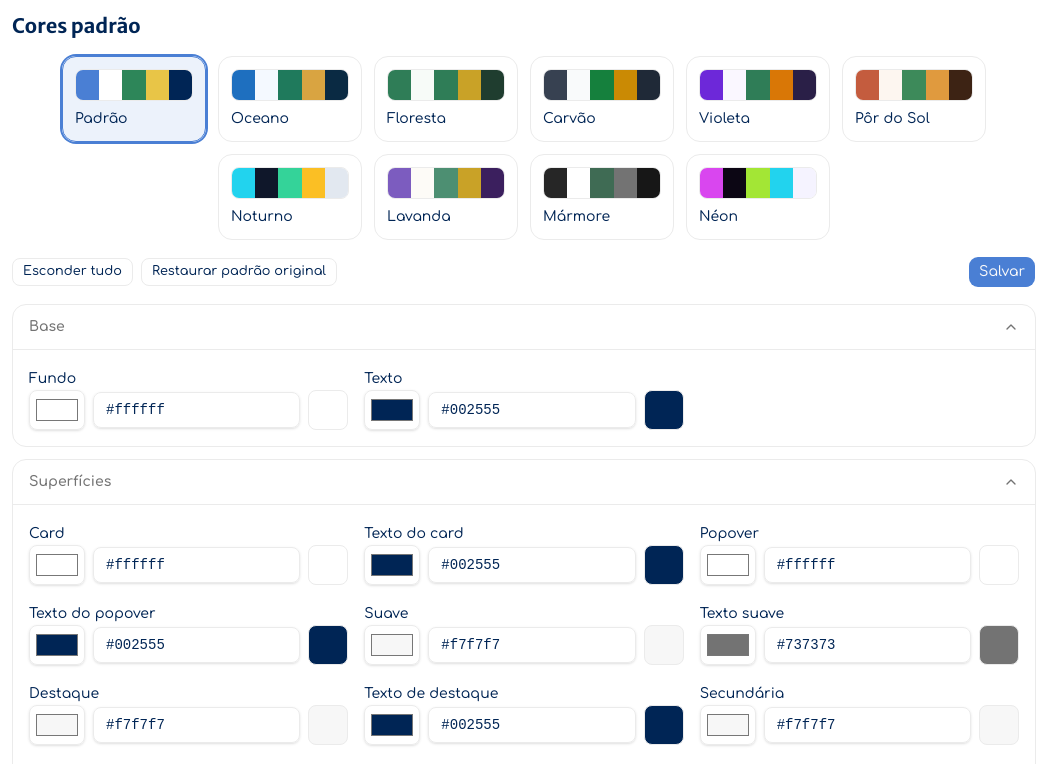
Test: DefaultColorsSection › renders token groups as accordions with expand and collapse all
Click the button "Superfícies".
click(70, 482)  # box [13,460,1035,504]
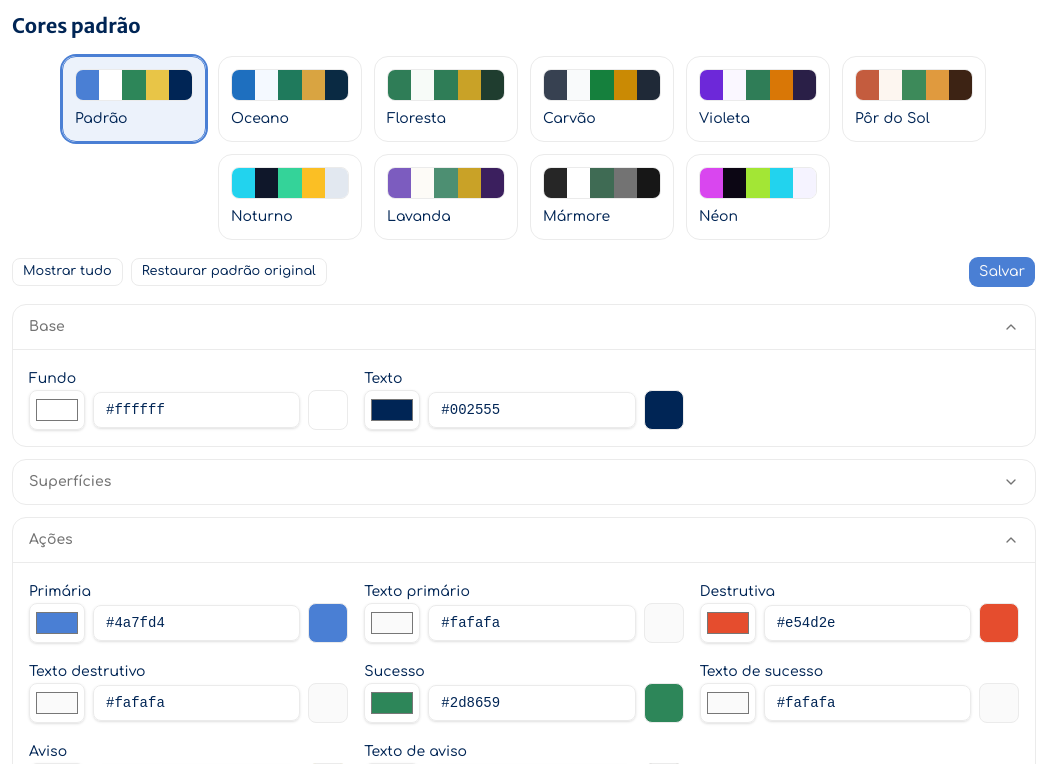
Expected: the button "Superfícies" is collapsed, [13,460,1035,504]
Click the button "Mostrar tudo".
click(67, 272)  # box [12,258,123,286]
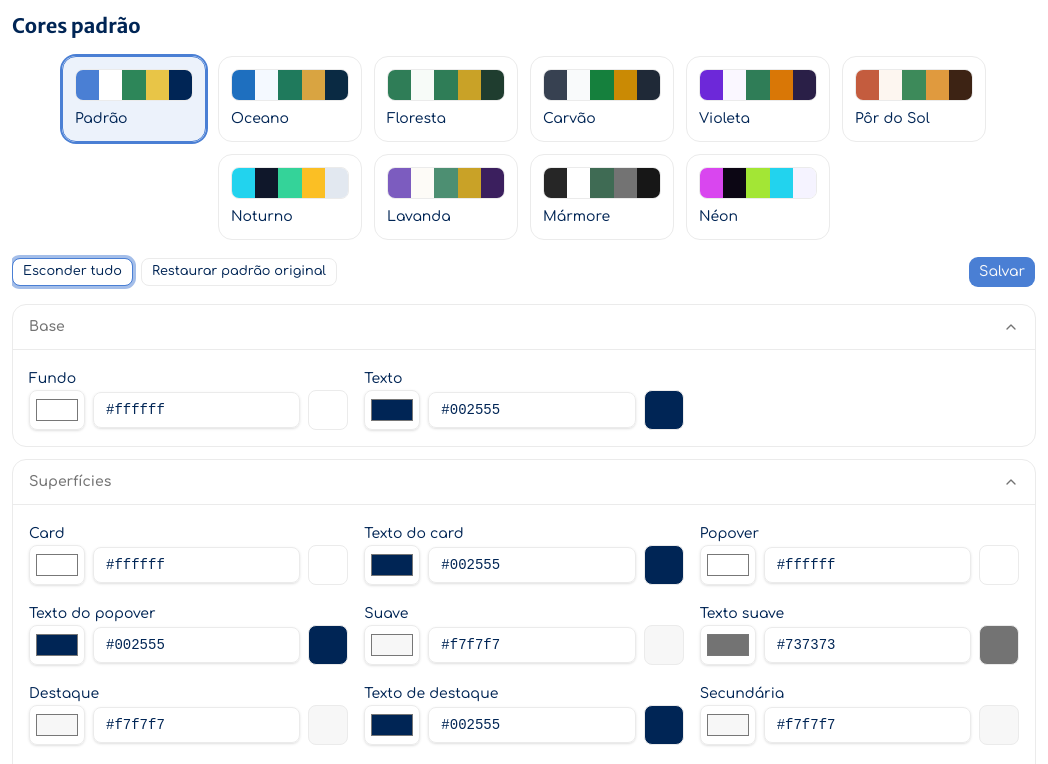
Expected: the button "Superfícies" is expanded, [13,460,1035,504]
Click the button "Esconder tudo".
click(72, 272)  # box [12,258,133,286]
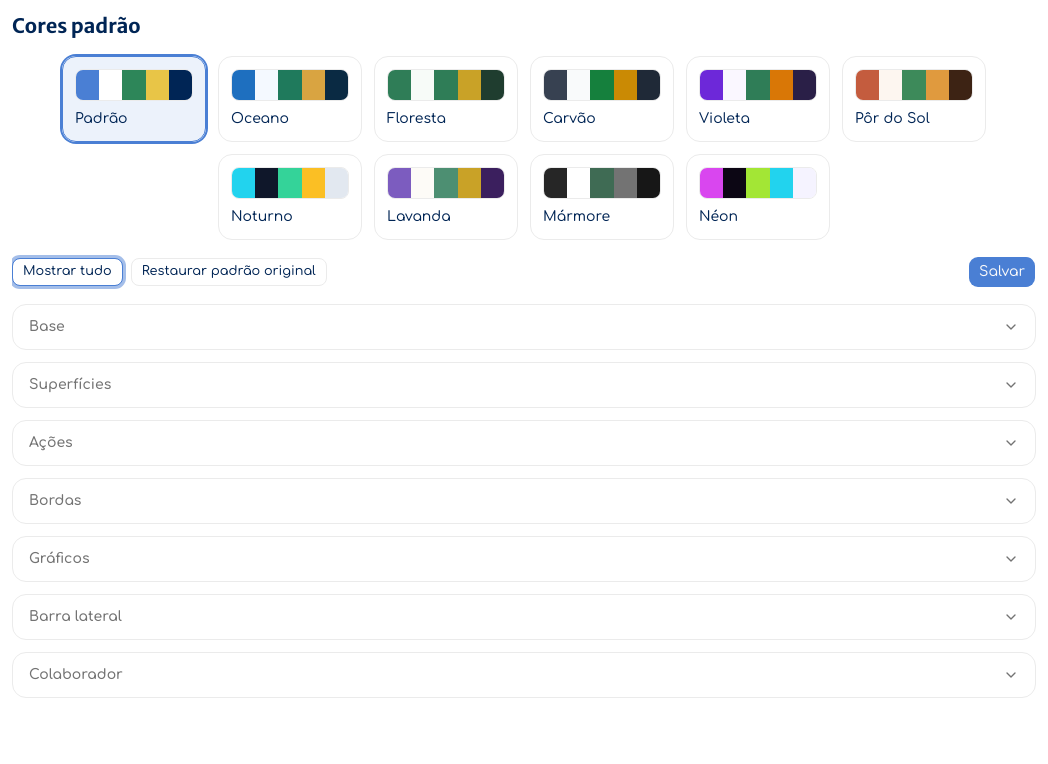
Expected: the button "Superfícies" is collapsed, [13,363,1035,407]
